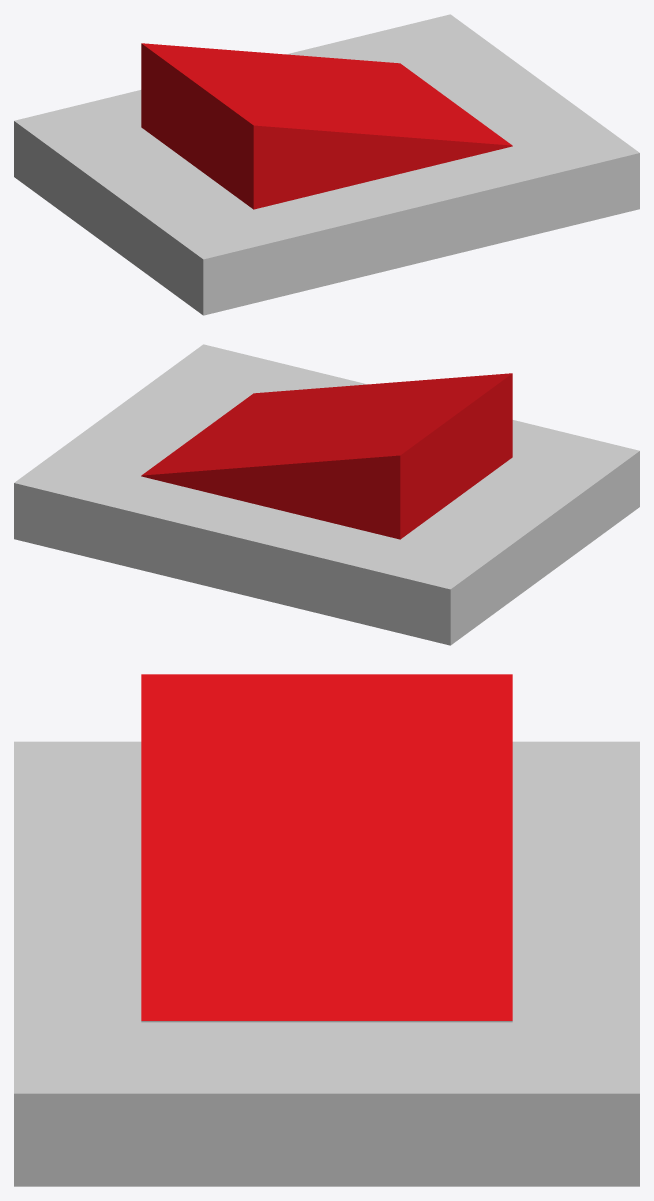
The model's file is Pedal Off.fbx.
3 views of the same model, one above another, from view 1: azimuth 30°, elevation 25°; view 2: azimuth 150°, elevation 25°; view 3: azimuth 270°, elevation 25° (orthographic). The views are drawn at different scales.
Parts seen in each view (by area): view 1: Cube.014; view 2: Cube.014; view 3: Cube.014.
Part boxes in pixels (x1,y1,x2,y2): Cube.014: (14,14,639,315); Cube.014: (14,344,639,645); Cube.014: (14,674,639,1186).
Size of the model in its own units: 0.5746 by 0.1765 by 0.4319.
